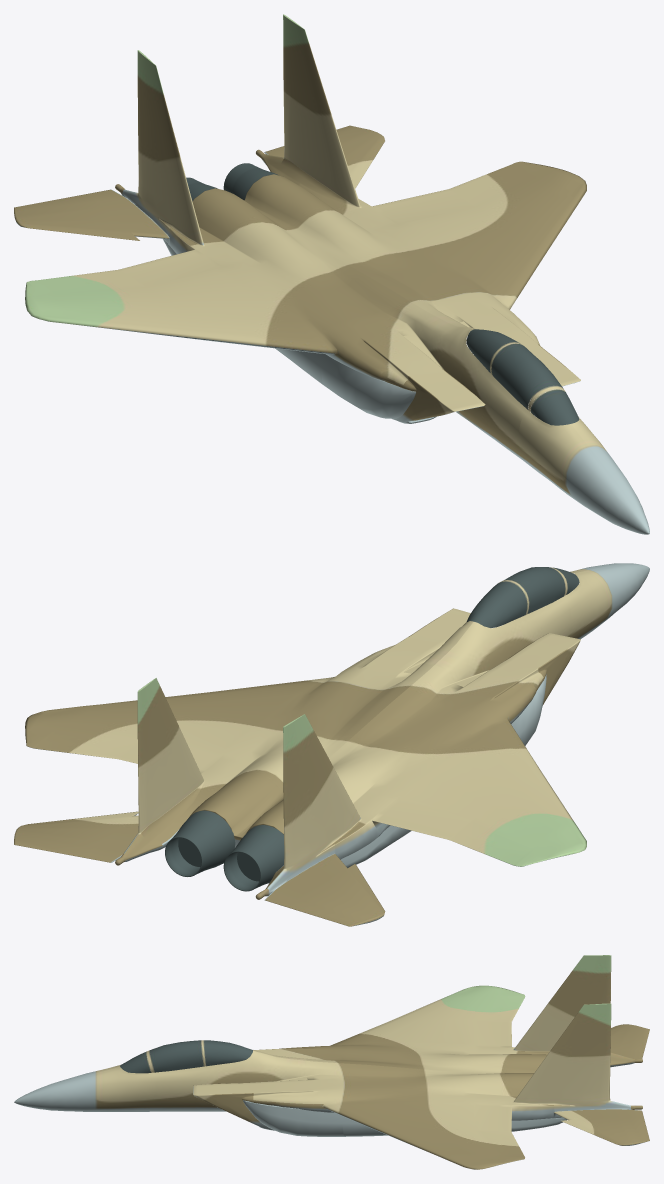
The model's file is f15raam.glb.
The picture shows the model from 3 angles, top to bottom: view 1: azimuth 30°, elevation 25°; view 2: azimuth 150°, elevation 25°; view 3: azimuth 270°, elevation 25°; orthographic projection. The views are drawn at different scales.
Visible parts, largest first — view 1: polySurface1631, polySurface1225, polySurface1085, polySurface1087, polySurface1105, revolvedSurface2; view 2: polySurface1631, revolvedSurface2, revolvedSurface1, polySurface1225, polySurface1105, polySurface1085; view 3: polySurface1631, polySurface1216, polySurface1085, polySurface1105, polySurface1087.
Part boxes in pixels (x1,y1,x2,y2): polySurface1631: (14, 14, 649, 534); polySurface1225: (163, 239, 415, 418); polySurface1085: (491, 343, 563, 409); polySurface1087: (530, 389, 579, 425); polySurface1105: (466, 329, 520, 372); revolvedSurface2: (223, 163, 278, 199); polySurface1631: (14, 563, 649, 926); revolvedSurface2: (165, 810, 235, 876); revolvedSurface1: (223, 825, 284, 891); polySurface1225: (341, 674, 546, 867); polySurface1105: (466, 581, 527, 627); polySurface1085: (503, 567, 565, 613); polySurface1631: (14, 955, 649, 1169); polySurface1216: (243, 1100, 566, 1136); polySurface1085: (149, 1040, 204, 1072); polySurface1105: (203, 1040, 252, 1066); polySurface1087: (120, 1051, 151, 1073).
Size of the model in its own units: 2.19 by 0.7517 by 3.2.
1 material, 1 textured.
